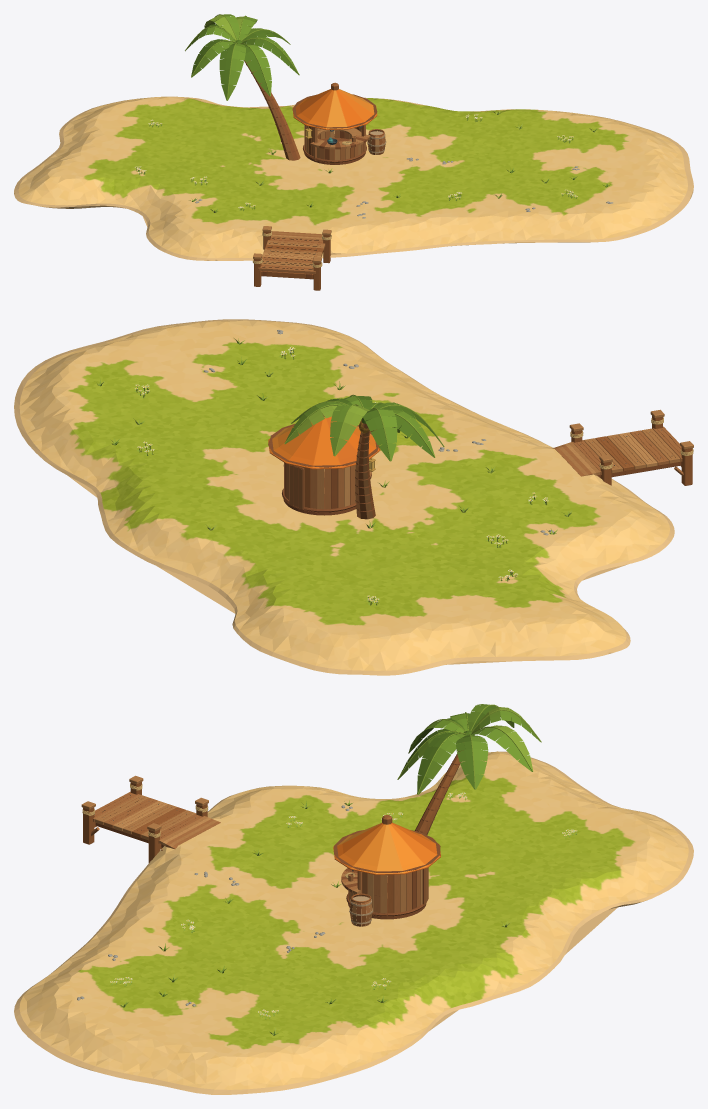
File: hook_island_v2.fbx
3 renders of one model, top to bottom at view 1: azimuth 30°, elevation 25°; view 2: azimuth 150°, elevation 25°; view 3: azimuth 270°, elevation 25°, orthographic. The views are drawn at different scales.
Parts seen in each view (by area): view 1: Island_Ground, Island_Palm, Island_Shop, Island_Pier, Island_SandBank, Island_Dressing; view 2: Island_Ground, Island_Shop, Island_SandBank, Island_Palm, Island_Pier, Island_Dressing; view 3: Island_Ground, Island_Shop, Island_Palm, Island_SandBank, Island_Pier, Island_Dressing.
Part boxes in pixels (<box>): Island_Ground: <box>18,96,687,258</box>; Island_Palm: <box>185,14,300,160</box>; Island_Shop: <box>292,82,386,164</box>; Island_Pier: <box>252,226,331,290</box>; Island_SandBank: <box>14,98,693,260</box>; Island_Dressing: <box>135,110,613,218</box>; Island_Ground: <box>19,320,669,670</box>; Island_Shop: <box>268,415,380,515</box>; Island_SandBank: <box>14,319,674,675</box>; Island_Palm: <box>284,394,444,519</box>; Island_Pier: <box>553,409,693,485</box>; Island_Dressing: <box>97,330,572,605</box>; Island_Ground: <box>19,751,688,1089</box>; Island_Shop: <box>333,815,440,926</box>; Island_Palm: <box>397,704,541,834</box>; Island_SandBank: <box>14,751,693,1094</box>; Island_Pier: <box>81,775,220,862</box>; Island_Dressing: <box>77,792,577,1035</box>.
Bounding box in the file's own units: 32.43 × 7.73 × 27.13.
6 materials, 6 textured.
